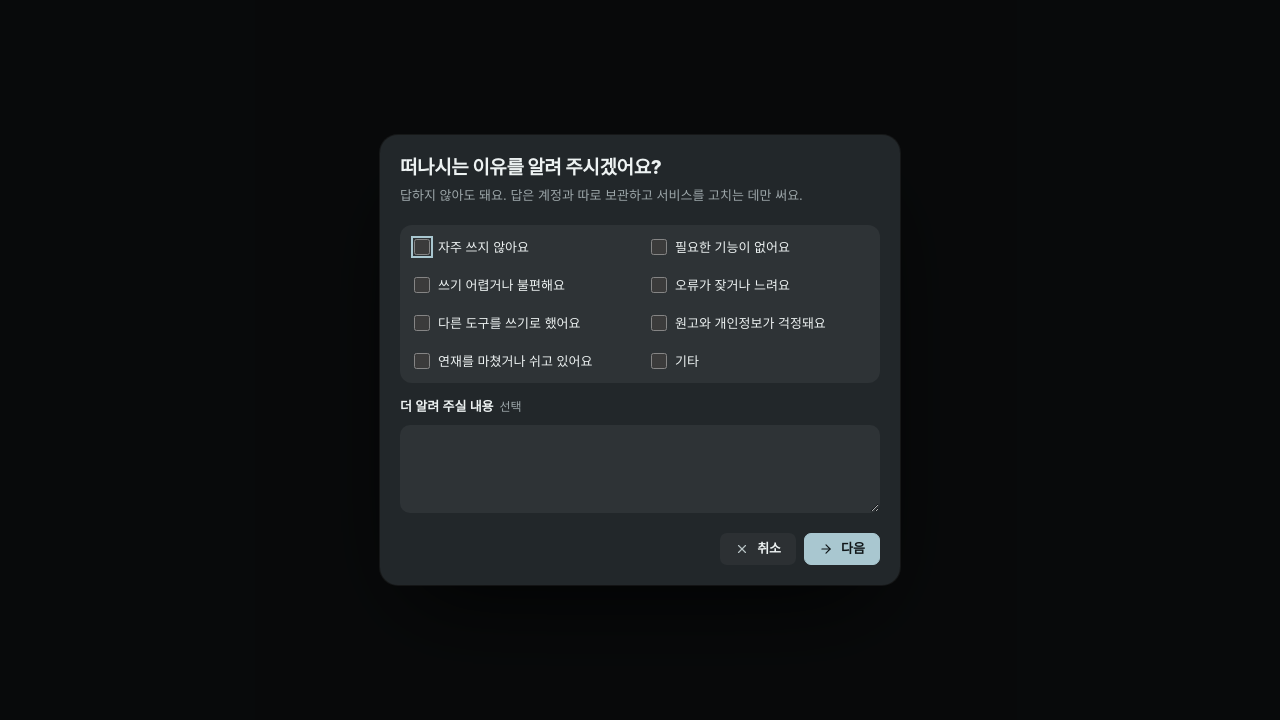
Test: AccountDeleteDialog › goes back to the reasons with the answers still there
Step 1. Click the checkbox labelled "기타" → (659, 361), box 651,353 -> 667,369
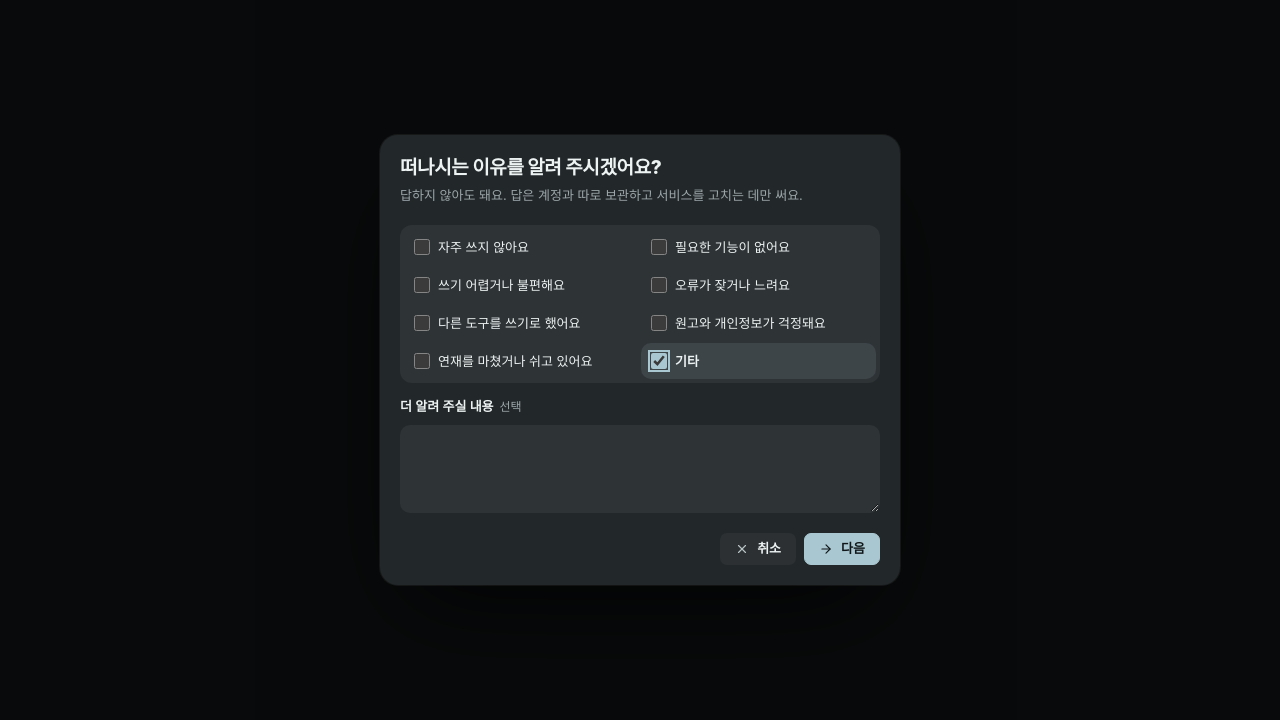
Step 2. Click the button "다음" → (842, 549), box 804,533 -> 880,565
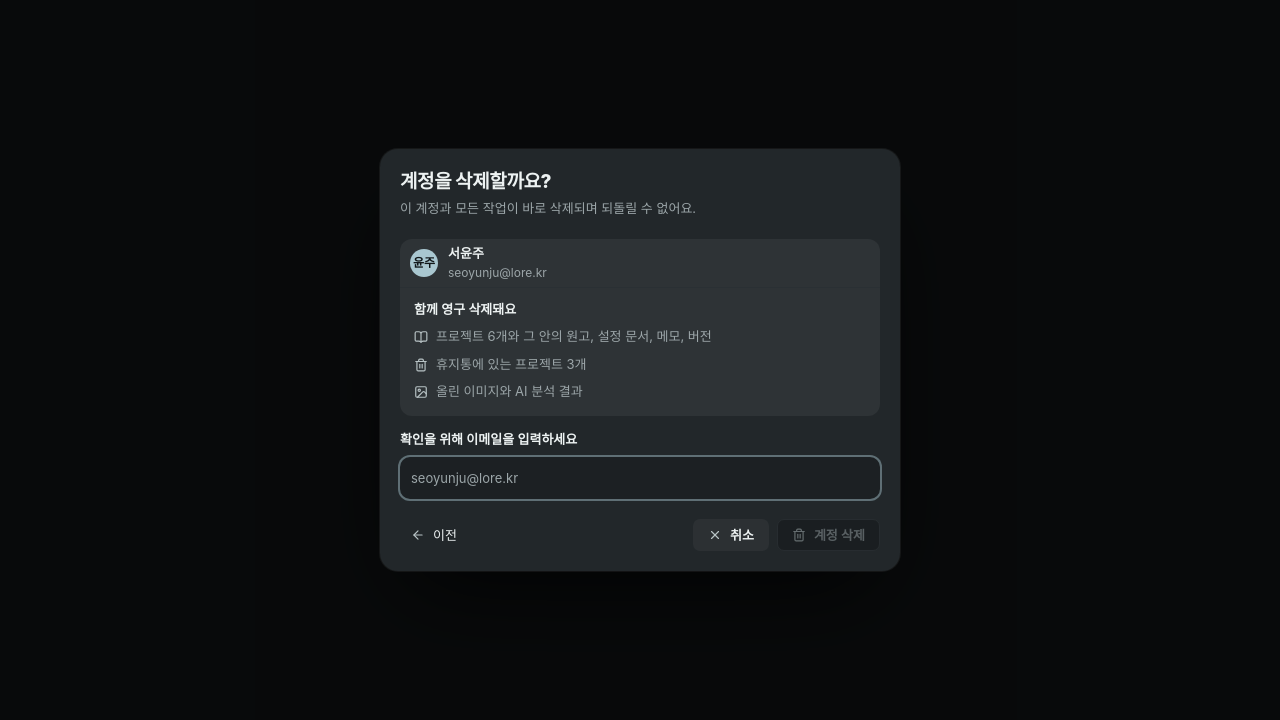
Step 3. Click the button "이전" → (434, 535), box 400,519 -> 468,551
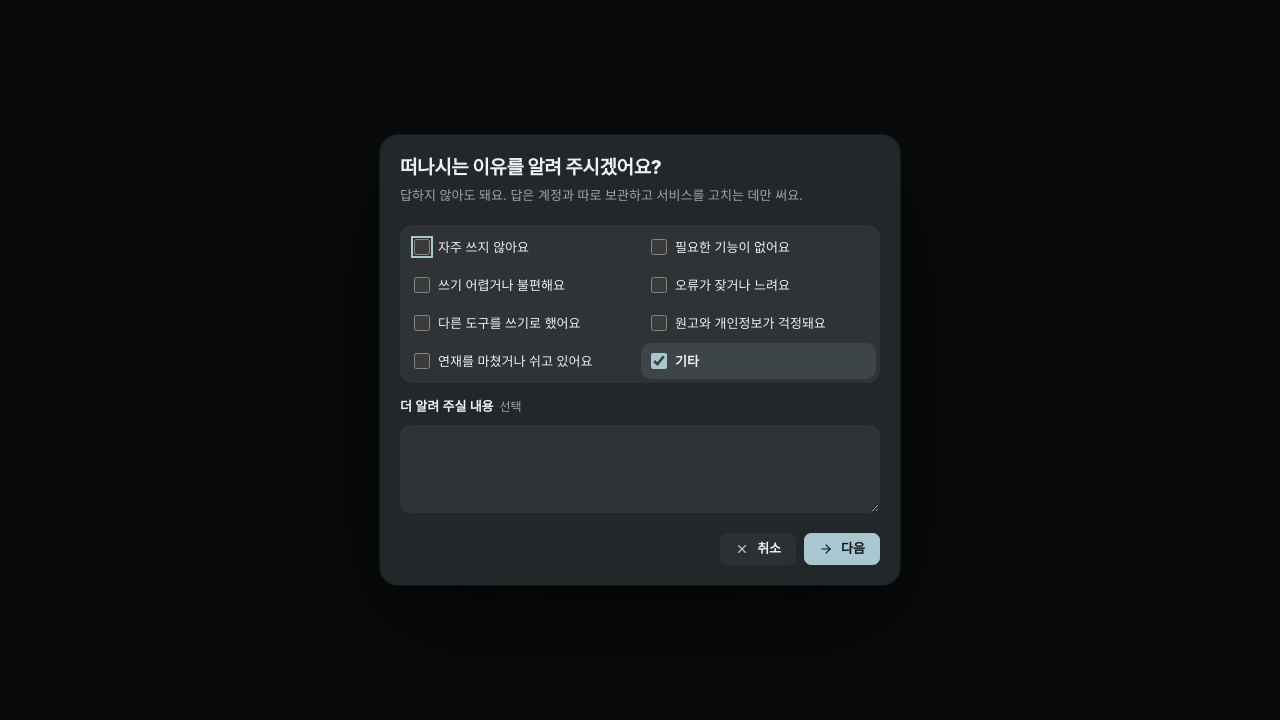
Result: the checkbox labelled "기타" is checked at 651,353 -> 667,369
Result: the checkbox labelled "자주 쓰지 않아요" is not checked at 414,239 -> 430,255
